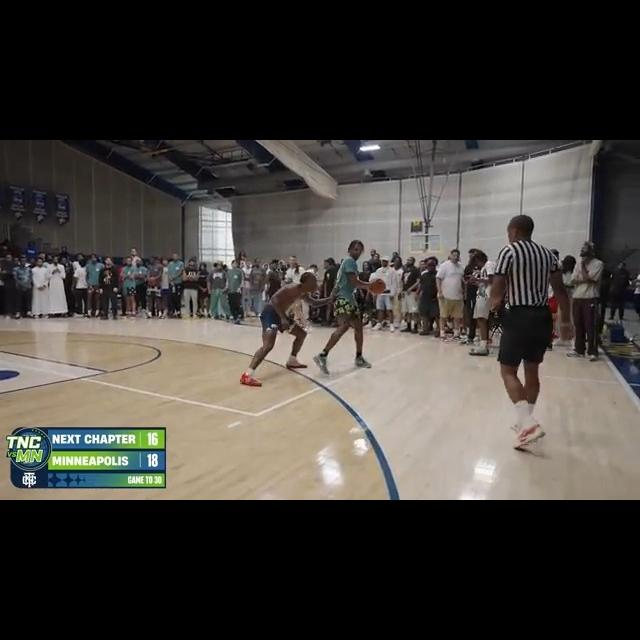basketball: (370, 279, 385, 295)
